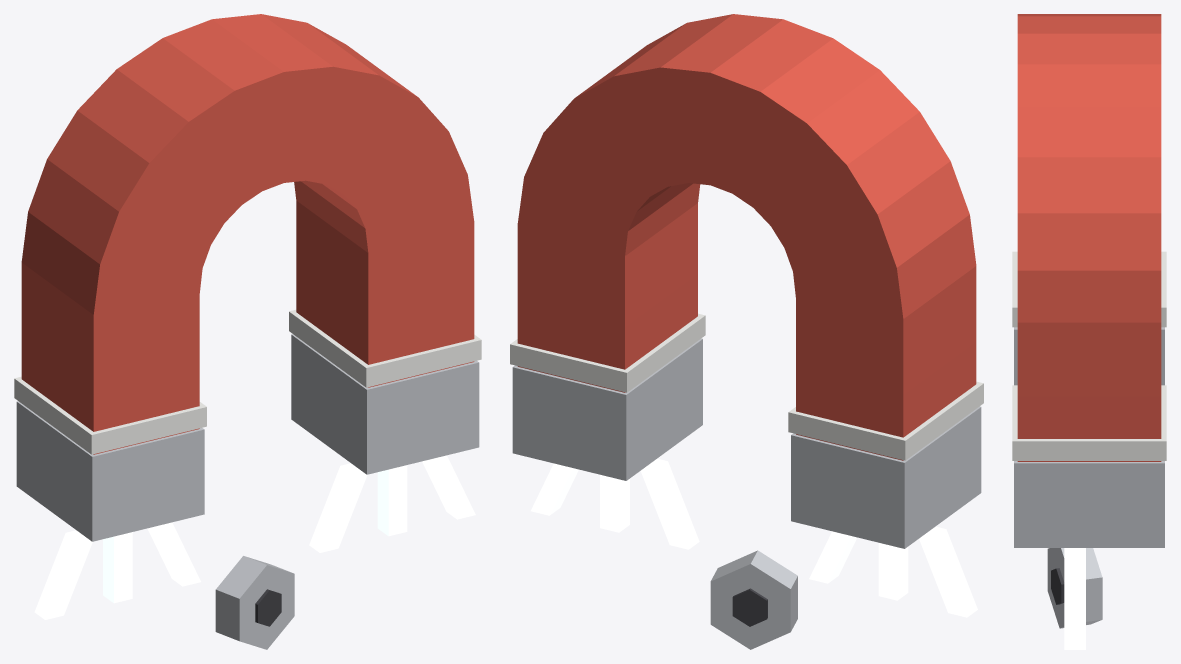
The model's file is item_magnet.glb.
3 views of the same model, side by side, from view 1: azimuth 30°, elevation 25°; view 2: azimuth 150°, elevation 25°; view 3: azimuth 270°, elevation 25° (orthographic).
Visible parts, largest first — view 1: item_magnet; view 2: item_magnet; view 3: item_magnet.
Part boxes in pixels (x1,y1,x2,y2): item_magnet: (14, 14, 481, 649); item_magnet: (510, 14, 983, 649); item_magnet: (1012, 14, 1166, 649).
Size of the model in its own units: 0.69 by 0.91 by 0.215.
